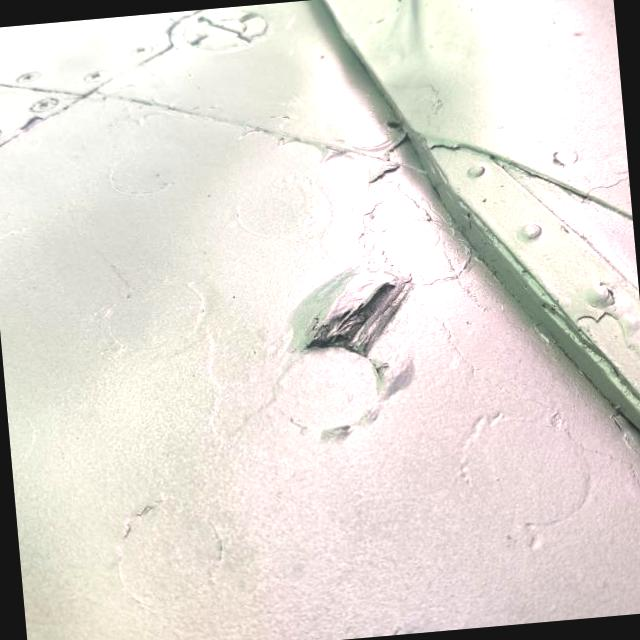paint-off: (290, 266, 426, 377)
